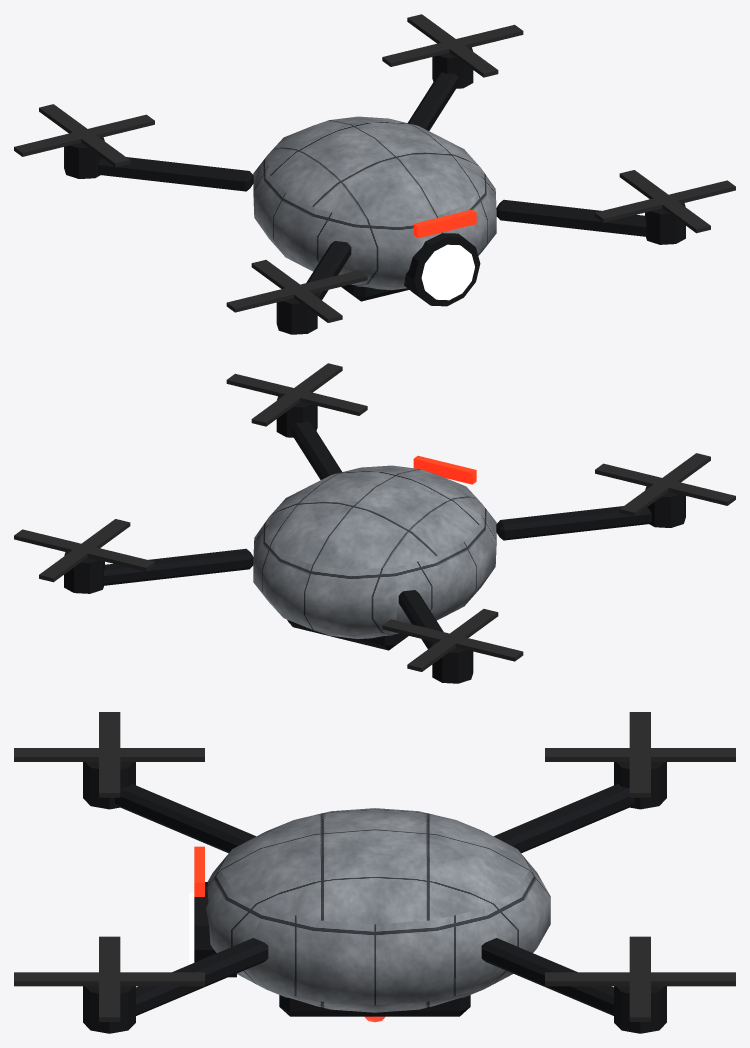
The model's file is drone.glb.
3 views of the same model, one above another, from view 1: azimuth 30°, elevation 25°; view 2: azimuth 150°, elevation 25°; view 3: azimuth 270°, elevation 25° (orthographic). The views are drawn at different scales.
Visible parts, largest first — view 1: drone, rotor3, rotor2, rotor1, rotor0; view 2: drone, rotor1, rotor0, rotor3, rotor2; view 3: drone, rotor1, rotor3, rotor0, rotor2.
Part boxes in pixels (x1,y1,x2,y2): drone: [64, 47, 685, 334]; rotor3: [382, 14, 523, 77]; rotor2: [14, 104, 154, 167]; rotor1: [595, 170, 735, 233]; rotor0: [226, 260, 367, 322]; drone: [64, 396, 685, 683]; rotor1: [226, 363, 367, 426]; rotor0: [595, 453, 735, 516]; rotor3: [14, 519, 154, 582]; rotor2: [382, 609, 523, 671]; drone: [83, 762, 666, 1033]; rotor1: [14, 936, 204, 1021]; rotor3: [545, 936, 735, 1021]; rotor0: [14, 712, 204, 797]; rotor2: [545, 712, 735, 797].
Bounding box in the file's own units: 1.36 × 0.398 × 1.36.
Materials: 6 (1 with a texture image).
